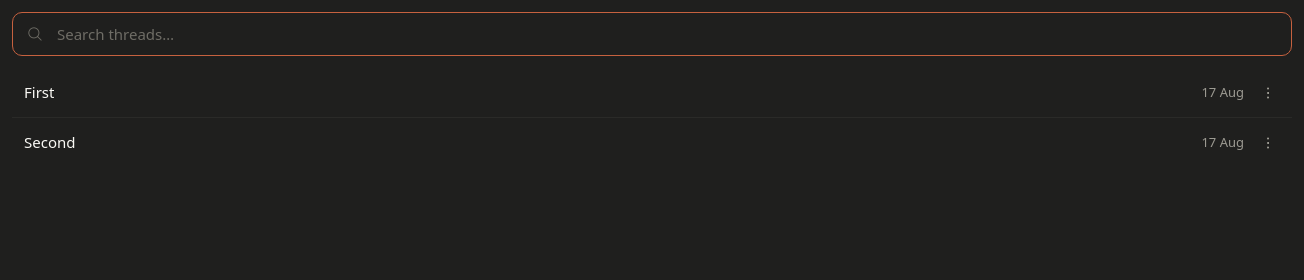
Scenario: ThreadsPage › stars from the row's menu and keeps the row where it is
Click the button named "Actions for First". click: x=1268, y=92
box: [1256,80,1280,104]
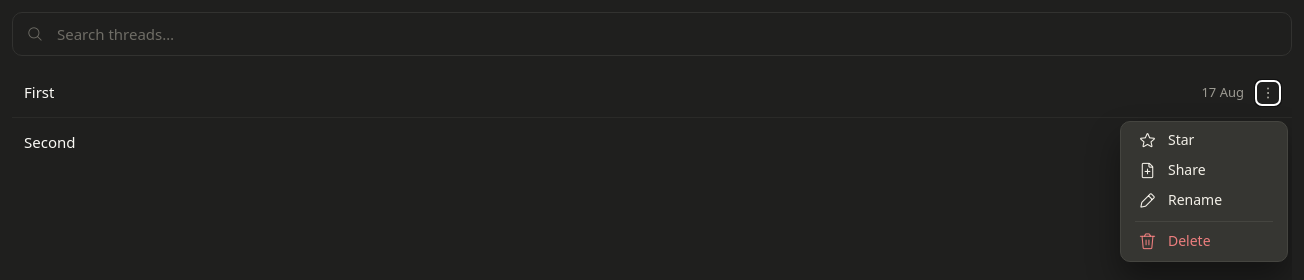
Click the menu item "Star". click: x=1204, y=141
box: [1125,126,1283,156]
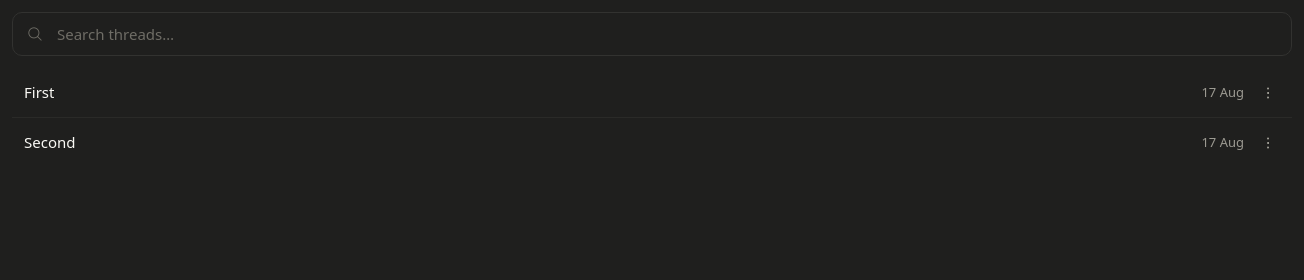
Click the button named "Actions for First". click: x=1268, y=92
box: [1256,80,1280,104]
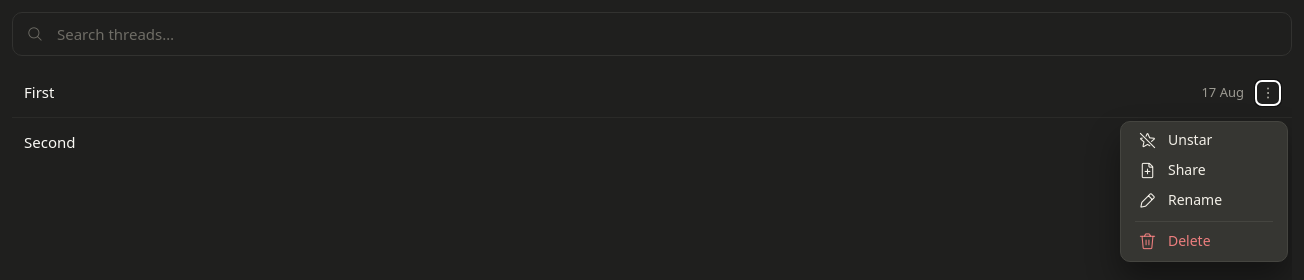
Result: the menu item "Unstar" is shown at [1125,126,1283,156]
